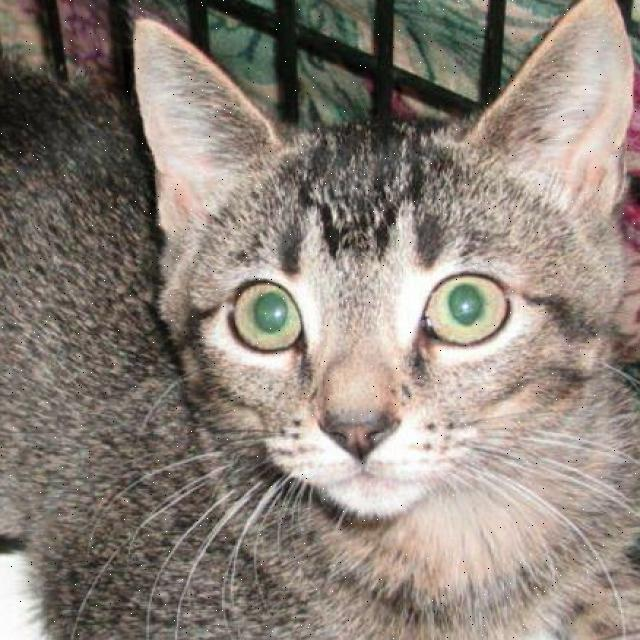Cat: (124, 0, 640, 535)
